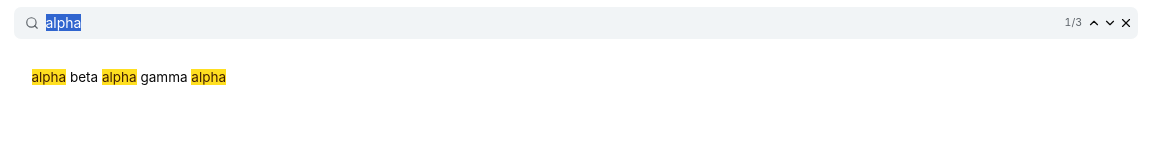
Test case: DocDetailView › next/prev move data-current across occurrences and wrap around
Step 1. Click the button named "Next match" → point(1110, 23), box [1103,16,1117,30]
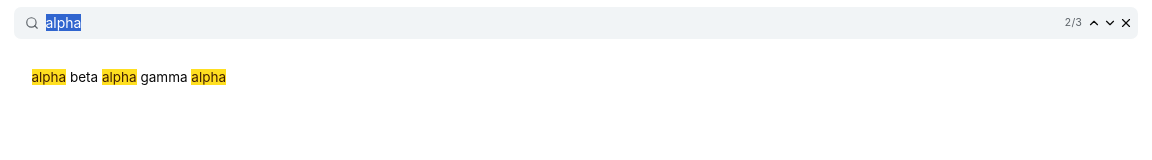
expect the text "2/3" is shown: met, box [1065,16,1082,29]
Step 2. Click the button named "Next match" → point(1110, 23), box [1103,16,1117,30]
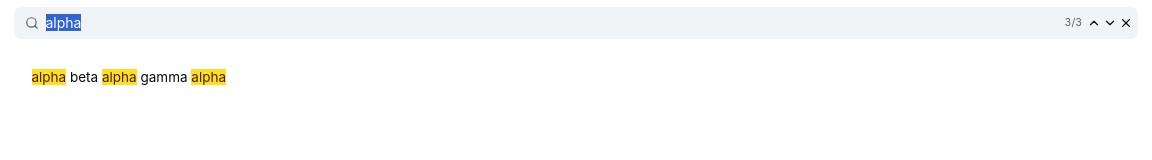
Step 3. Click the button named "Next match" → point(1110, 23), box [1103,16,1117,30]
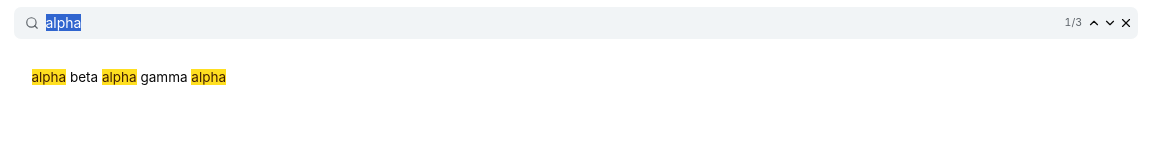
expect the text "1/3" is shown: met, box [1065,16,1082,29]
Step 4. Click the button named "Previous match" → point(1094, 23), box [1087,16,1101,30]
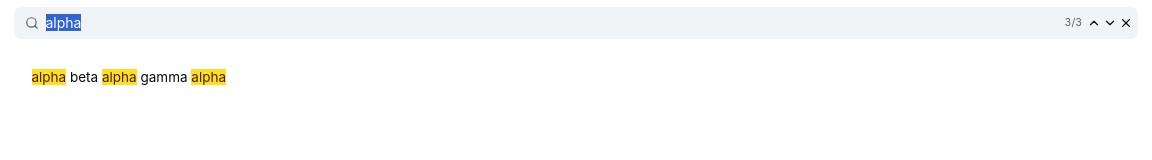
expect the text "3/3" is shown: met, box [1065,16,1082,29]
